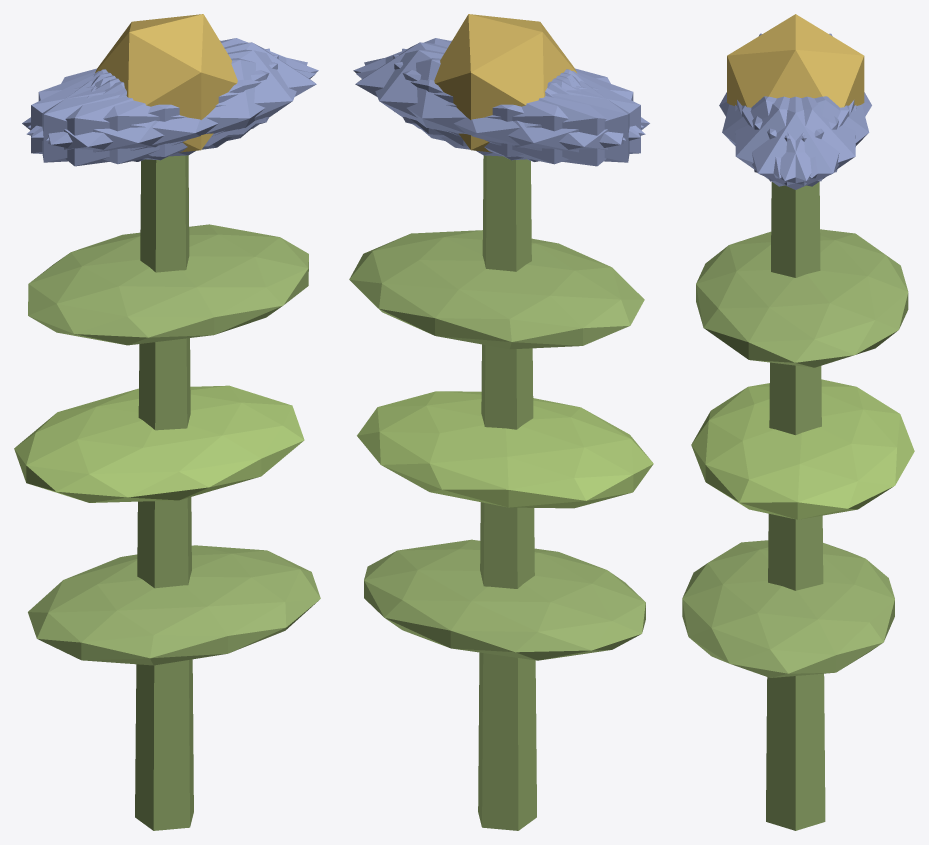
File: solanum-melongena.glb
The picture shows the model from 3 angles, left to right: view 1: azimuth 30°, elevation 25°; view 2: azimuth 150°, elevation 25°; view 3: azimuth 270°, elevation 25°; orthographic projection.
Parts seen in each view (by area): view 1: stem, leaf0, leaf1, leaf2, center, petal1, petal6, petal2, petal5, petal7, petal0, petal4 (+2 smaller); view 2: leaf1, leaf2, stem, leaf0, center, petal8, petal3, petal7, petal4, petal2, petal0, petal5 (+2 smaller); view 3: leaf2, leaf1, leaf0, stem, center, petal0, petal5, petal4, petal1, petal8.
Boxes of the visible parts, bbox=[...] form: stem: bbox=[135, 155, 193, 830]; leaf0: bbox=[28, 545, 320, 665]; leaf1: bbox=[14, 385, 304, 502]; leaf2: bbox=[28, 224, 308, 345]; center: bbox=[95, 14, 237, 152]; petal1: bbox=[26, 58, 315, 164]; petal6: bbox=[22, 71, 231, 166]; petal2: bbox=[42, 48, 269, 162]; petal5: bbox=[46, 49, 307, 156]; petal7: bbox=[31, 55, 278, 160]; petal0: bbox=[94, 42, 316, 146]; petal4: bbox=[28, 38, 318, 137]; leaf1: bbox=[357, 391, 653, 508]; leaf2: bbox=[349, 230, 644, 349]; stem: bbox=[478, 155, 536, 830]; leaf0: bbox=[364, 539, 645, 660]; center: bbox=[434, 14, 576, 152]; petal8: bbox=[356, 58, 645, 164]; petal3: bbox=[440, 71, 649, 166]; petal7: bbox=[402, 48, 629, 162]; petal4: bbox=[364, 49, 625, 156]; petal2: bbox=[393, 55, 640, 160]; petal0: bbox=[355, 42, 577, 146]; petal5: bbox=[353, 38, 643, 137]; leaf2: bbox=[696, 229, 908, 367]; leaf1: bbox=[691, 379, 914, 519]; leaf0: bbox=[682, 540, 894, 677]; stem: bbox=[766, 182, 825, 830]; center: bbox=[727, 14, 864, 107]; petal0: bbox=[737, 96, 854, 189]; petal5: bbox=[735, 96, 849, 186]; petal4: bbox=[742, 96, 856, 186]; petal1: bbox=[722, 96, 838, 178]; petal8: bbox=[752, 96, 869, 178].
Bounding box in the file's own units: 0.1452 × 0.3874 × 0.1039.
